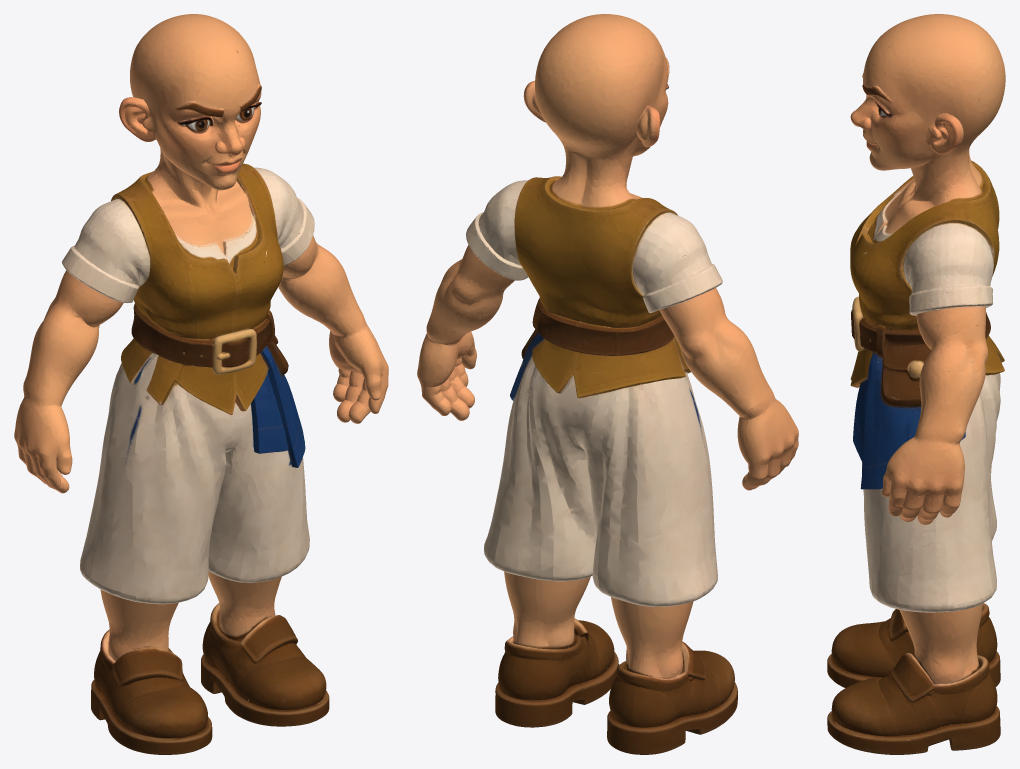
File: model-remeshed.glb
The picture shows the model from 3 angles, left to right: view 1: azimuth 30°, elevation 25°; view 2: azimuth 150°, elevation 25°; view 3: azimuth 270°, elevation 25°; orthographic projection.
Parts seen in each view (by area): view 1: output_unwrapped; view 2: output_unwrapped; view 3: output_unwrapped.
Boxes of the visible parts, x1,y1,x2,y2 form: output_unwrapped: [14, 14, 388, 754]; output_unwrapped: [417, 14, 798, 754]; output_unwrapped: [827, 14, 1005, 754].
Bounding box in the file's own units: 1.04 × 1.9 × 0.4477.
1 material, 1 textured.
